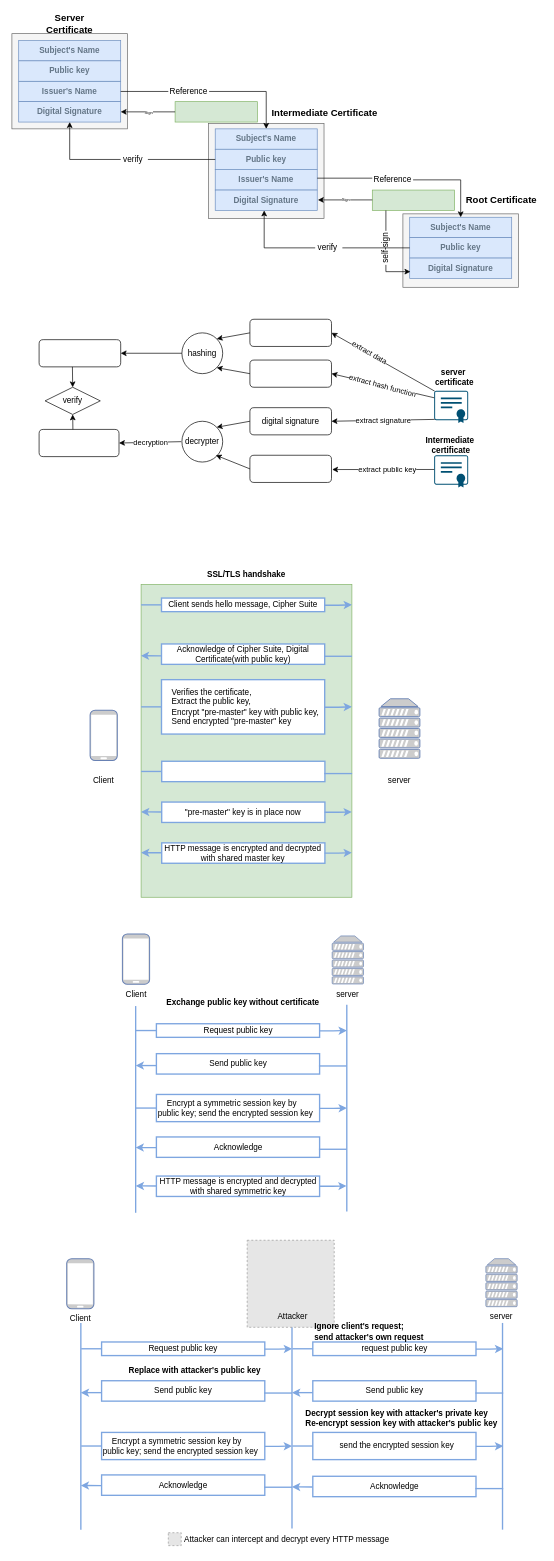
The diagram is 554 pixels wide and 1561 high, and some of its shapes have lost their labels. Grey dashed boxes stand in for pictures. Here are the shapes that lost their labels. From the top down, the centre of each, then its label:
pixel 215 111: Private key of intermediate CA
pixel 413 199: Private key of Root CA
pixel 290 332: certificate data
pixel 79 353: digest
pixel 290 373: hash function
pixel 78 443: original hash
pixel 290 468: public key of CA
pixel 243 771: Server decrypt "pre-master" key with private key
